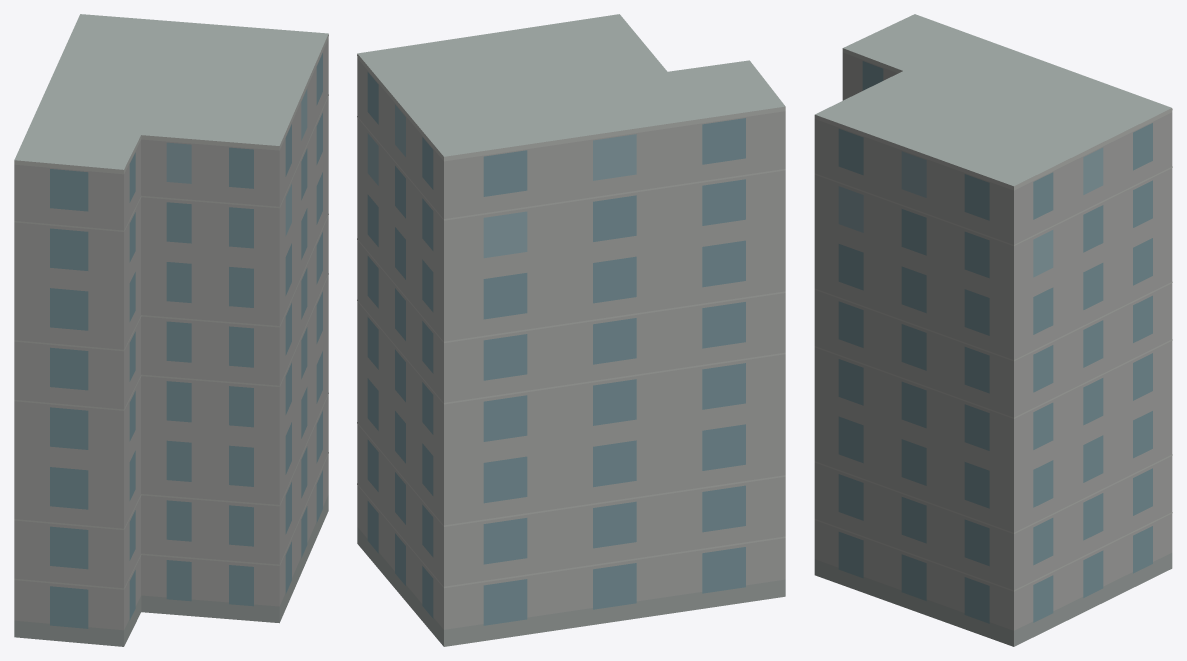
Rendered from survey-upis-32622262.glb.
The picture shows the model from 3 angles, left to right: view 1: azimuth 30°, elevation 25°; view 2: azimuth 150°, elevation 25°; view 3: azimuth 270°, elevation 25°; orthographic projection. The views are drawn at different scales.
Visible parts, largest first — view 1: survey-upis-32622262.tmp; view 2: survey-upis-32622262.tmp; view 3: survey-upis-32622262.tmp.
Part boxes in pixels (x1,y1,x2,y2): survey-upis-32622262.tmp: [14, 14, 328, 646]; survey-upis-32622262.tmp: [357, 14, 785, 646]; survey-upis-32622262.tmp: [814, 14, 1172, 646].
Size of the model in its own units: 21.02 by 26.17 by 18.44.
